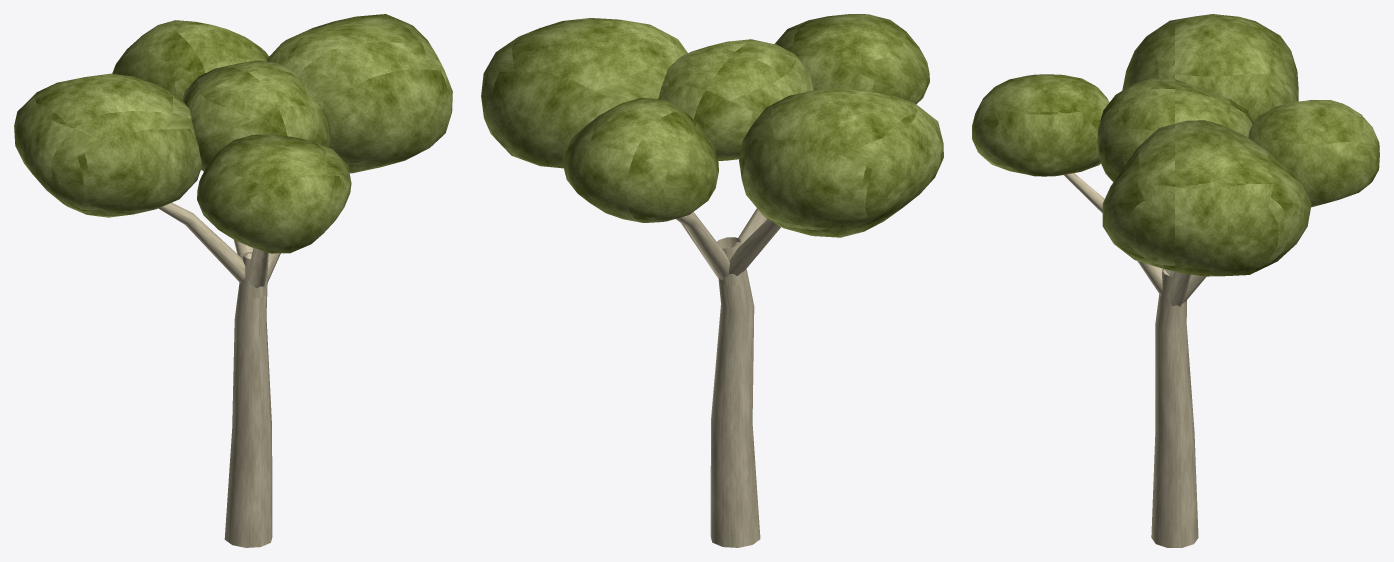
The model's file is Cazahuate.obj.
3 renders of one model, left to right at view 1: azimuth 30°, elevation 25°; view 2: azimuth 150°, elevation 25°; view 3: azimuth 270°, elevation 25°, orthographic. The views are drawn at different scales.
Parts seen in each view (by area): view 1: Cazahuate; view 2: Cazahuate; view 3: Cazahuate.
Part boxes in pixels (box(x1,y1,x2,y2)): Cazahuate: box(14, 14, 452, 547); Cazahuate: box(481, 14, 943, 547); Cazahuate: box(972, 14, 1379, 547).
Size of the model in its own units: 5.72 by 6.39 by 5.19.
2 materials, 2 textured.
